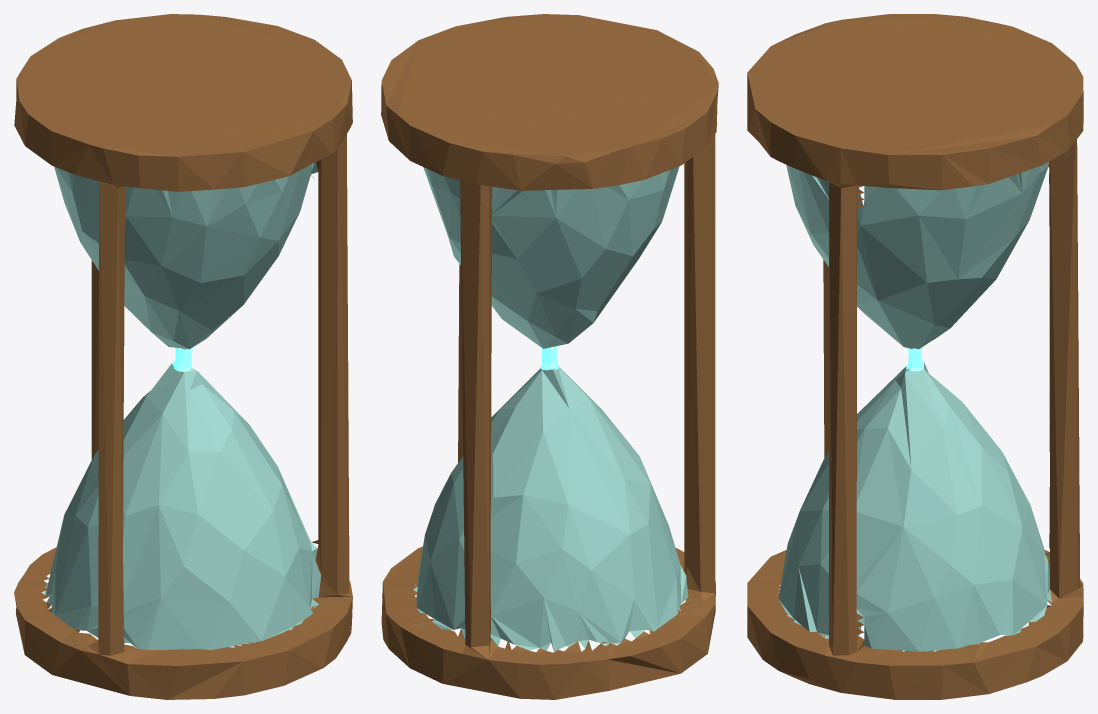
Rendered from pickup_hourglass.glb.
The picture shows the model from 3 angles, left to right: view 1: azimuth 30°, elevation 25°; view 2: azimuth 150°, elevation 25°; view 3: azimuth 270°, elevation 25°; orthographic projection.
Parts seen in each view (by area): view 1: pickup_hourglass; view 2: pickup_hourglass; view 3: pickup_hourglass.
Part boxes in pixels (bbox=[...]): pickup_hourglass: bbox=[14, 14, 352, 699]; pickup_hourglass: bbox=[381, 14, 718, 699]; pickup_hourglass: bbox=[747, 14, 1083, 699].
Bounding box in the file's own units: 0.2567 × 0.46 × 0.2571.
